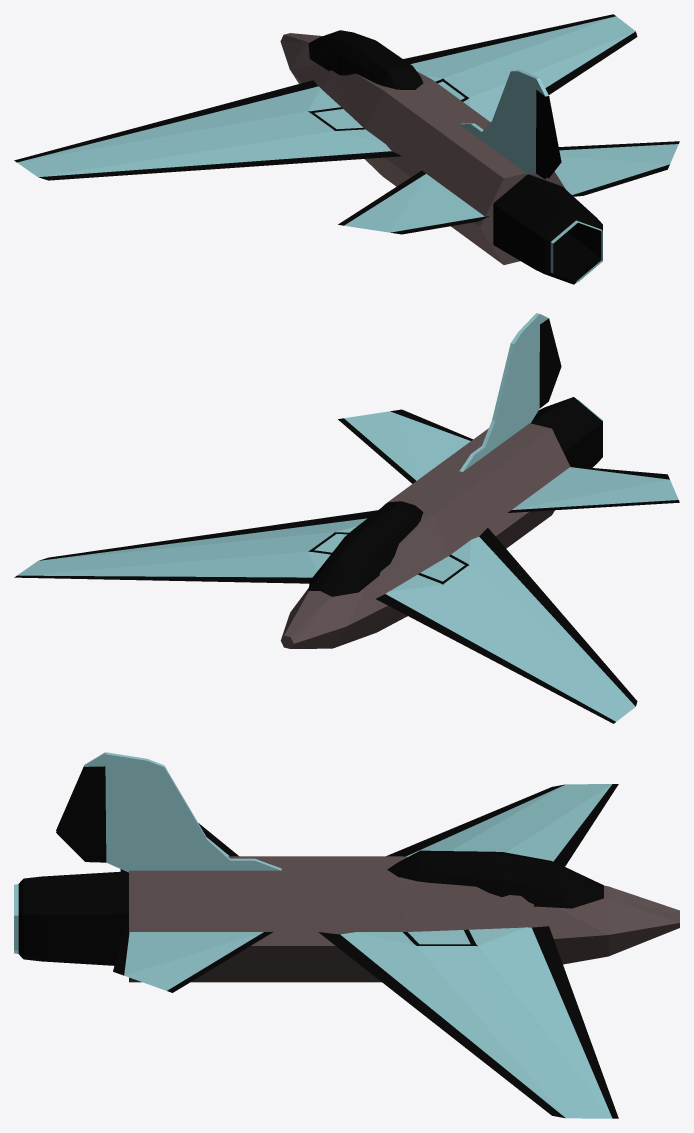
The model's file is xWings.obj.
The picture shows the model from 3 angles, top to bottom: view 1: azimuth 30°, elevation 25°; view 2: azimuth 150°, elevation 25°; view 3: azimuth 270°, elevation 25°; orthographic projection. The views are drawn at different scales.
Parts seen in each view (by area): view 1: Cube.003, Cylinder.003, Cube.002, Cylinder.001, Cube, Cylinder.002; view 2: Cube.003, Cylinder.003, Cube.002, Cube, Cylinder.002, Cylinder.001; view 3: Cylinder.003, Cube.003, Cube, Cylinder.001, Cylinder.002, Cube.002.
Part boxes in pixels (x1,y1,x2,y2): Cube.003: [14, 14, 637, 180]; Cylinder.003: [280, 33, 565, 264]; Cube.002: [338, 141, 679, 234]; Cylinder.001: [493, 174, 602, 284]; Cube: [459, 70, 561, 179]; Cylinder.002: [308, 30, 423, 89]; Cube.003: [14, 510, 637, 723]; Cylinder.003: [280, 423, 570, 648]; Cube.002: [338, 409, 679, 512]; Cube: [459, 313, 561, 471]; Cylinder.002: [308, 501, 423, 596]; Cylinder.001: [531, 397, 602, 467]; Cylinder.003: [129, 856, 679, 982]; Cube.003: [319, 784, 618, 1118]; Cube: [56, 752, 281, 872]; Cylinder.001: [14, 871, 128, 965]; Cylinder.002: [387, 850, 603, 908]; Cube.002: [113, 823, 273, 992].
Bounding box in the file's own units: 4.06 × 1.22 × 3.41.
